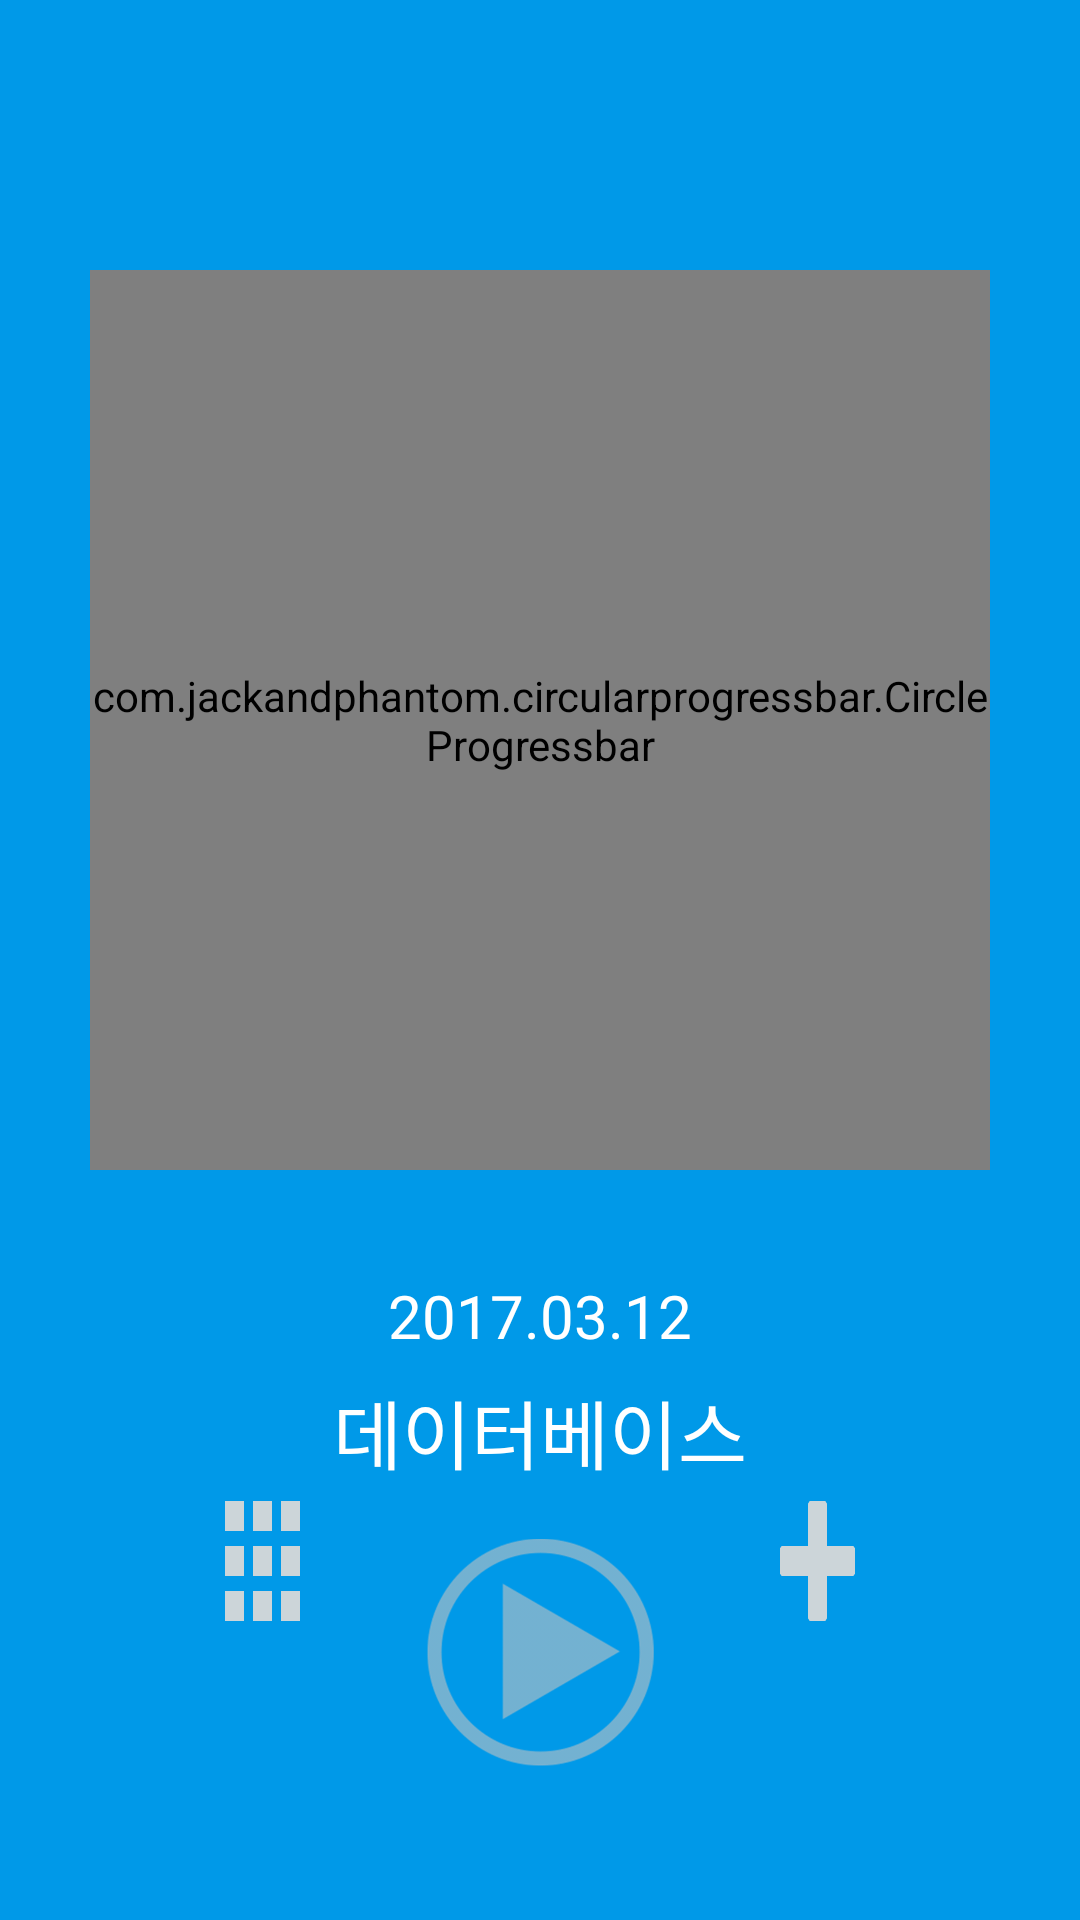

Where icons sit on this 1080px×1920px app screen, as (x1, y1, x2, y2):
playbutton: (427, 1539, 654, 1766)
